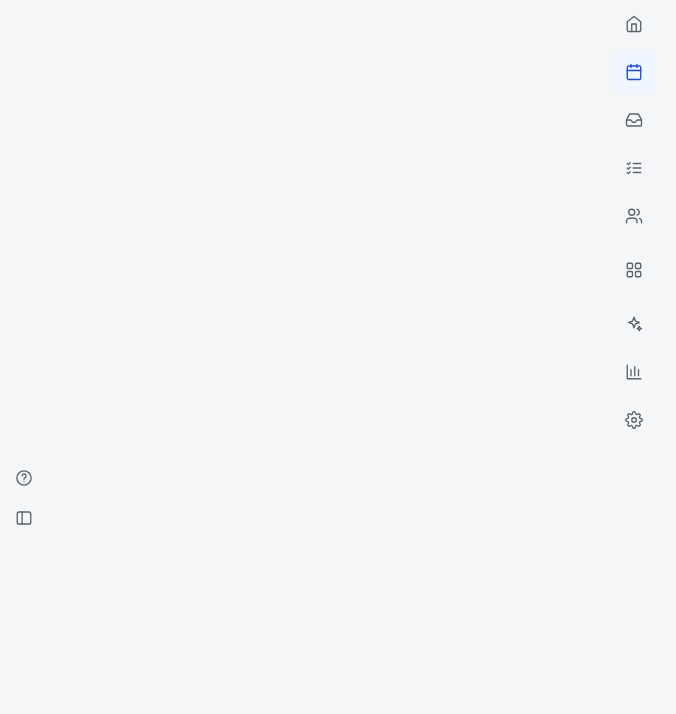
Test: DS 1.0 §15/§18 — grupo abre PAINEL LATERAL (sem acordeão) › clicar novamente no grupo ABERTO fecha (zero painéis = estado válido)
This screenshot has width=676, height=714.
Click the button named "Automação" at (634, 324), box [612,302,656,346]
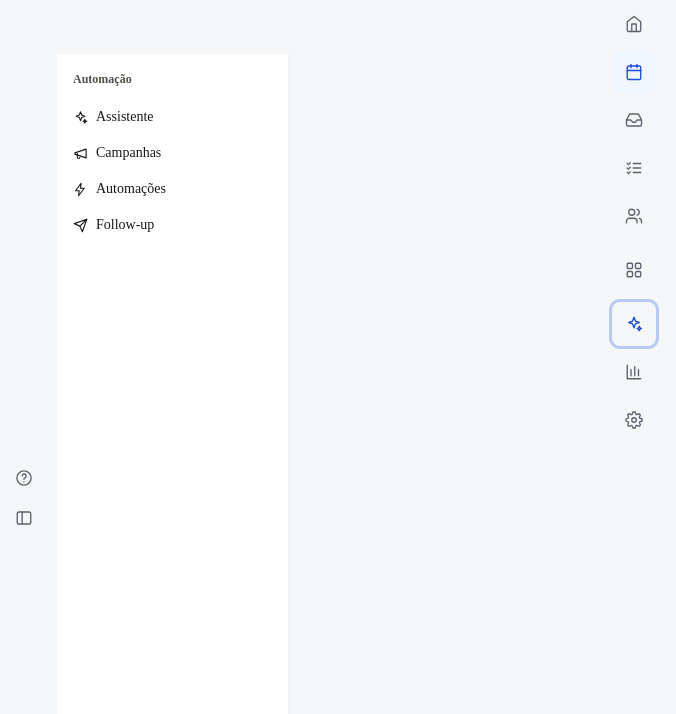
Result: the menu with id "ws-nav-panel" is shown at [57,54,289,713]
Click the button named "Automação" at (634, 324), box [612,302,656,346]
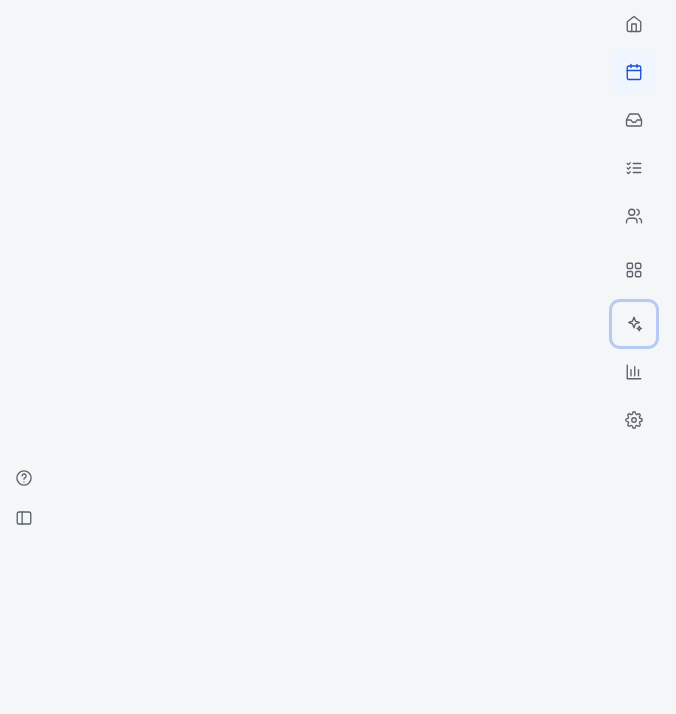
Result: the button named "Automação" is collapsed at [612,302,656,346]
Result: the menu with id "ws-nav-panel" is gone
